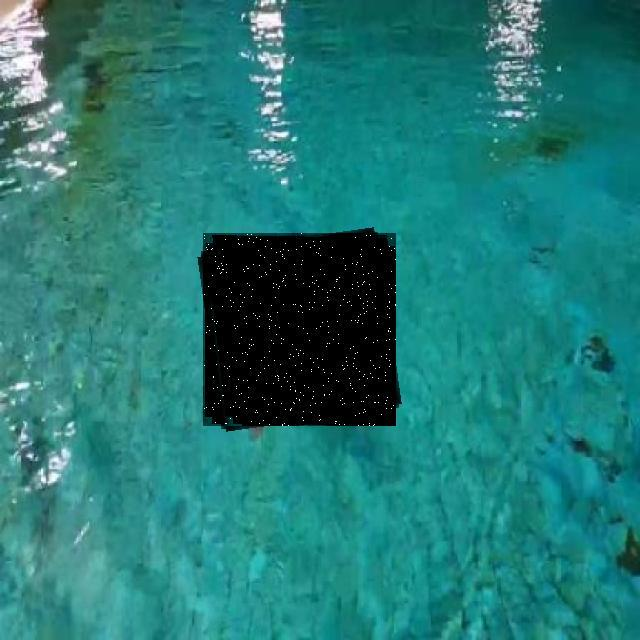Out of Water: (203, 233, 396, 426)
